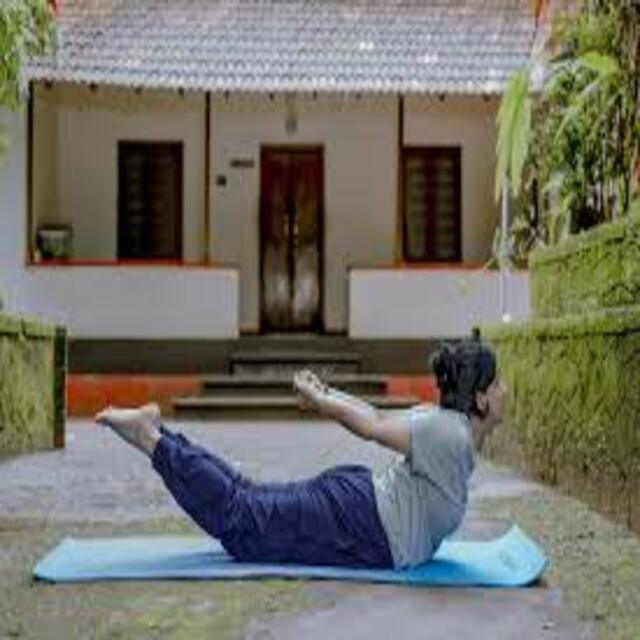Locust_Pose: (97, 343, 516, 569)
